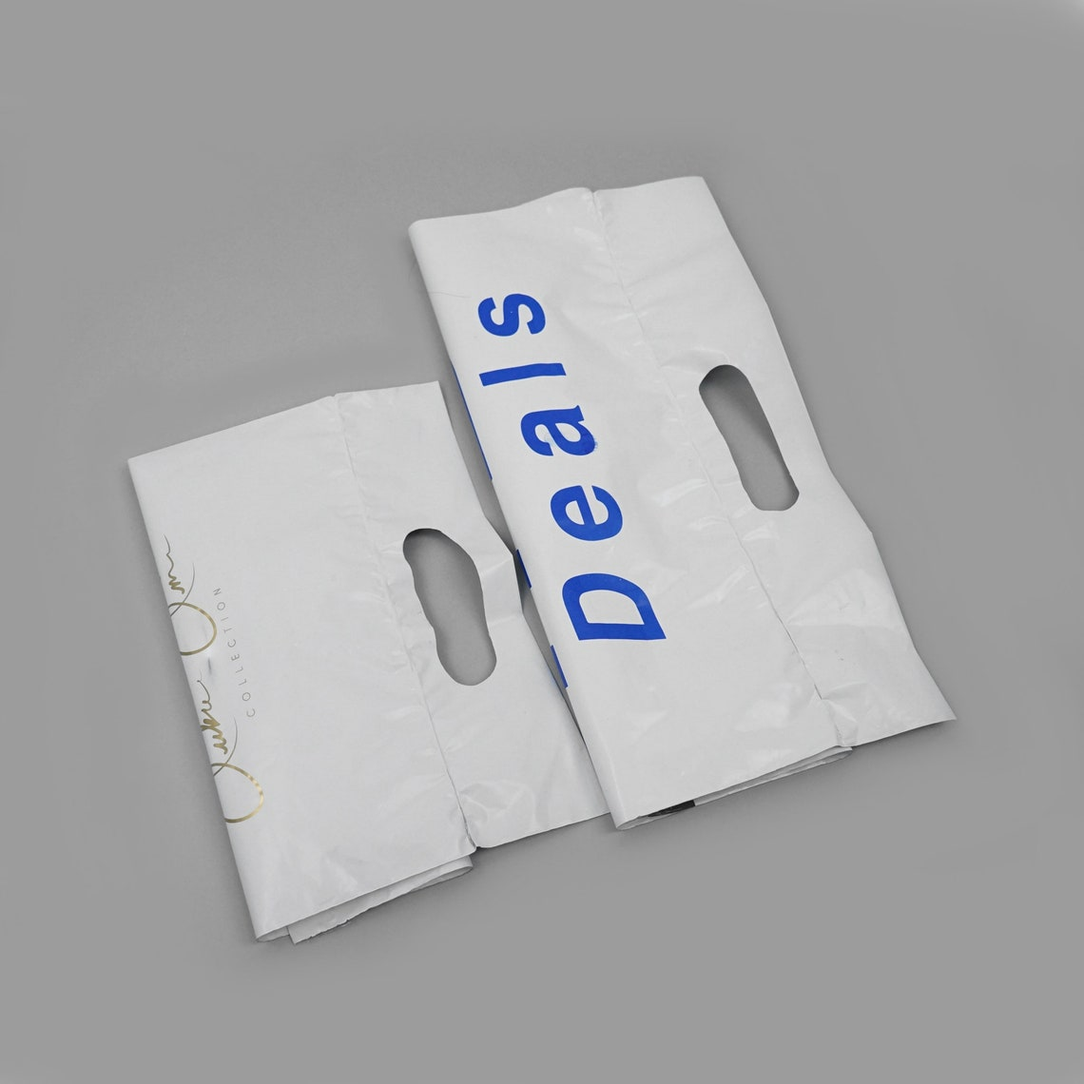塑料袋: (402, 110, 952, 836), (110, 355, 616, 953)
